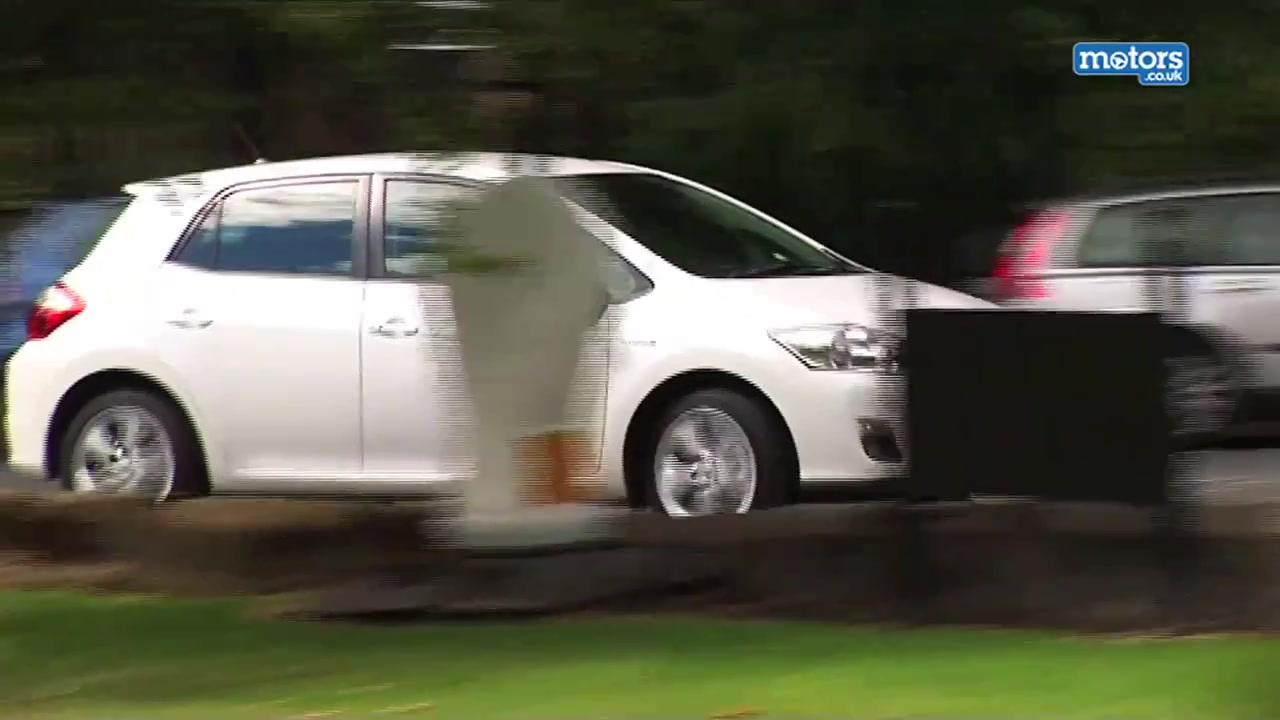car: (10, 150, 1007, 519), (988, 180, 1280, 458)
